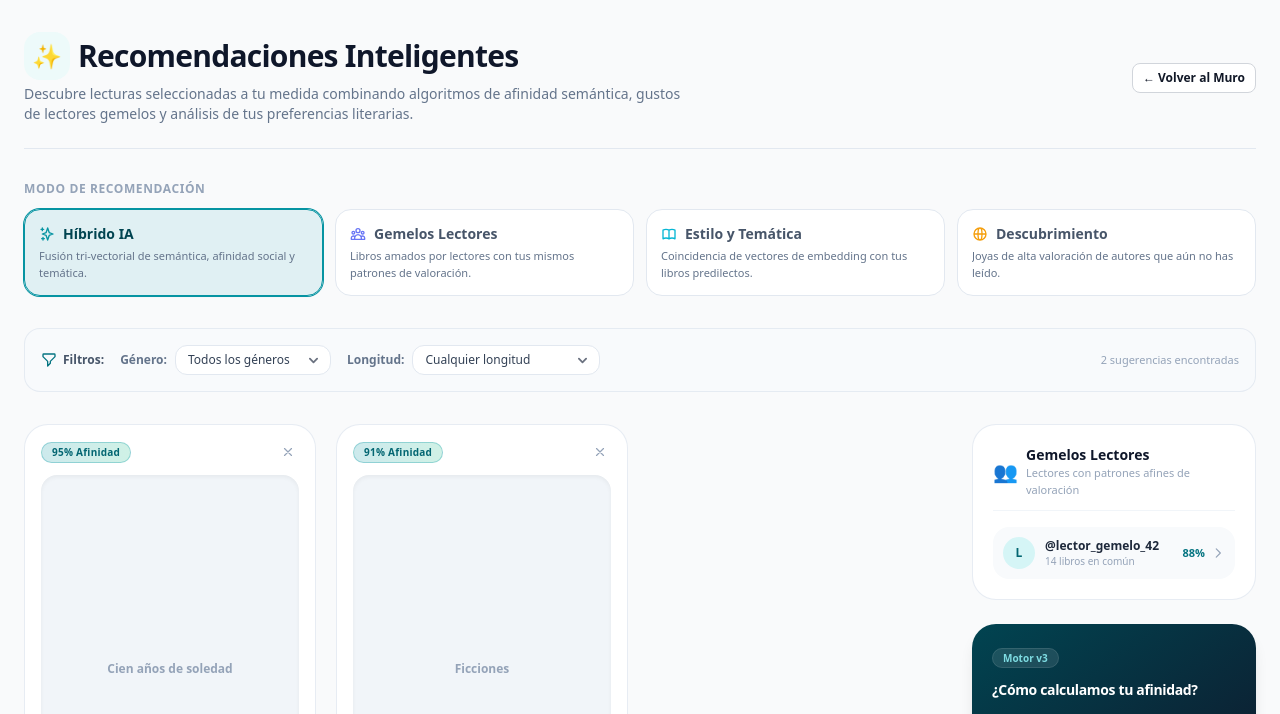
RecommendationsPage Component (Sprint 17) › allows dismissing a recommended book with 1-click and removes it from view
What coordinates should you click on to do the following:
click the button named "Descartar Cien años de soledad"
I would click on:
 (288, 452)
Its box is top-left (277, 441), bottom-right (299, 463).
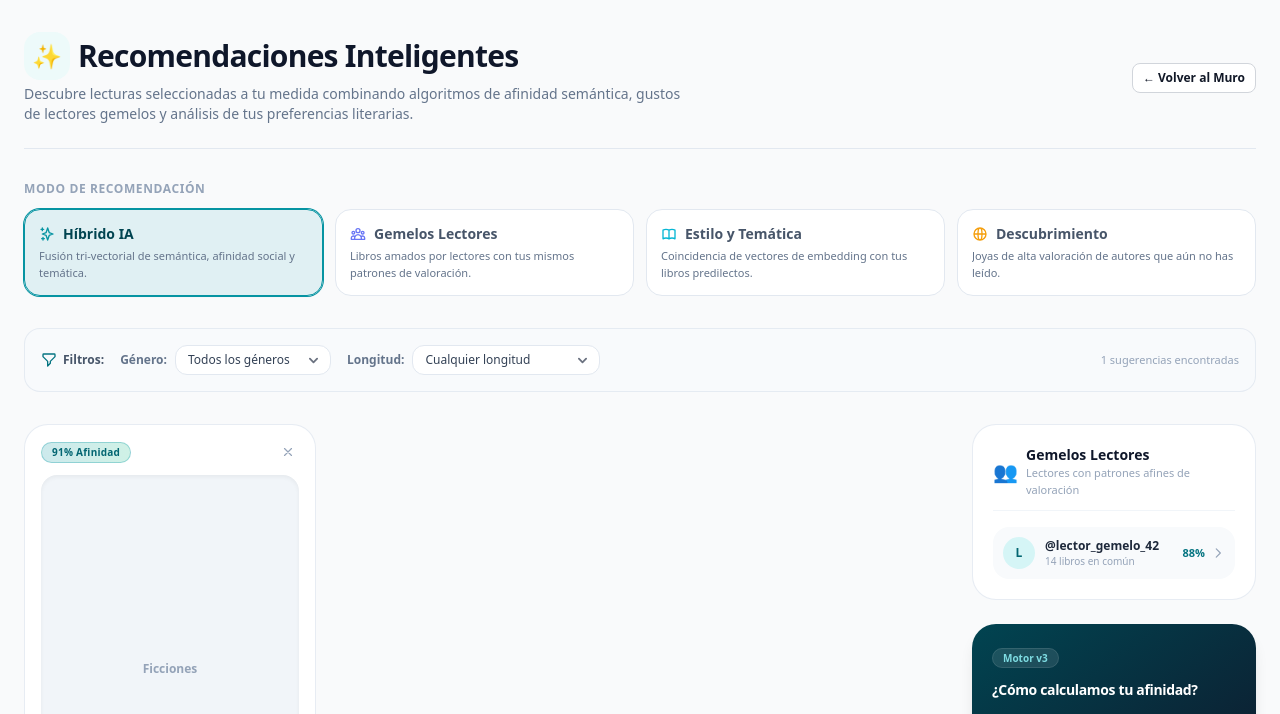
Now no links "Cien años de soledad" are shown
